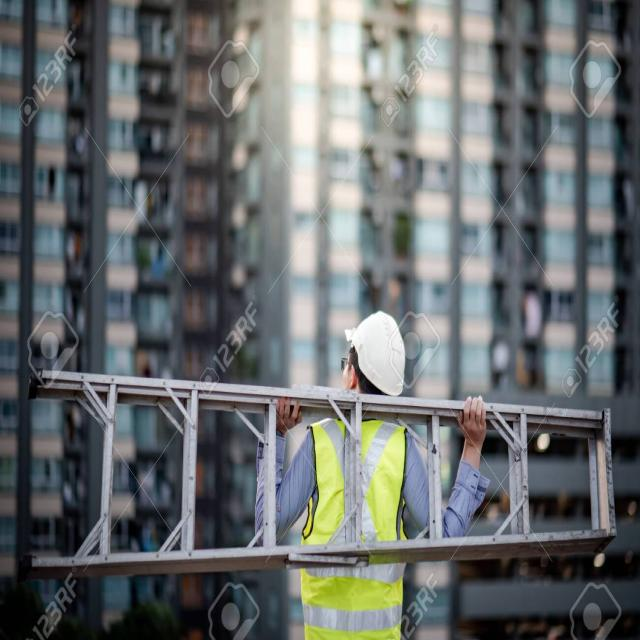helmet: (338, 300, 416, 402)
vest: (304, 411, 407, 640)
